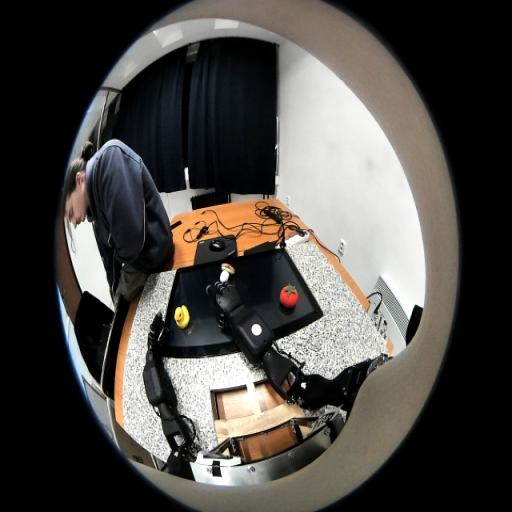Duck: (174, 305, 190, 329)
LeftHand: (147, 333, 161, 351)
Mushroom: (220, 262, 235, 283)
RightHand: (218, 289, 240, 307)
Tomato: (280, 282, 298, 308)
